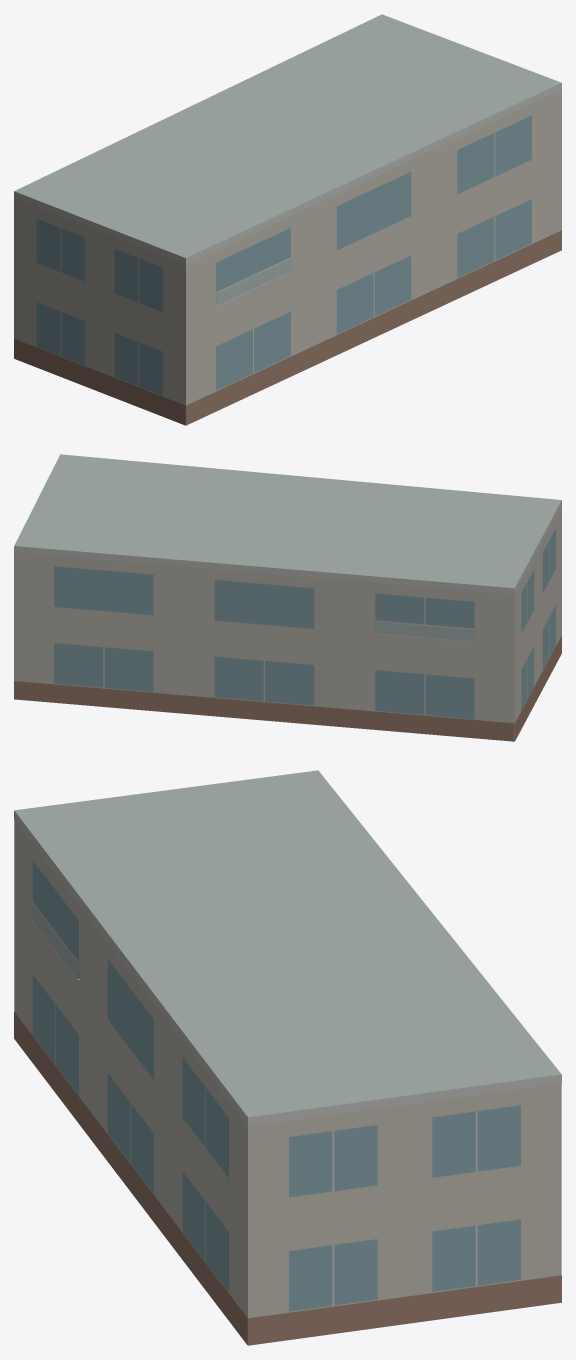
File: survey-upis-32770687.glb
3 views of the same model, one above another, from view 1: azimuth 30°, elevation 25°; view 2: azimuth 150°, elevation 25°; view 3: azimuth 270°, elevation 25° (orthographic). The views are drawn at different scales.
Parts seen in each view (by area): view 1: survey-upis-32770687.tmp; view 2: survey-upis-32770687.tmp; view 3: survey-upis-32770687.tmp.
Part boxes in pixels (x1=…): survey-upis-32770687.tmp: x1=14, y1=14, x2=561, y2=425; survey-upis-32770687.tmp: x1=14, y1=454, x2=561, y2=741; survey-upis-32770687.tmp: x1=14, y1=770, x2=561, y2=1345.
Size of the model in its own units: 19.91 by 6.1 by 13.27.
